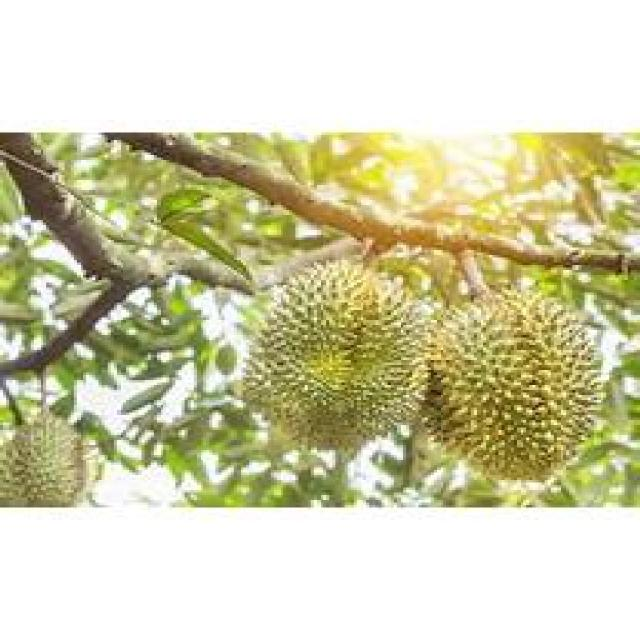fruit: (406, 268, 619, 492), (224, 240, 430, 468), (0, 407, 98, 504)
